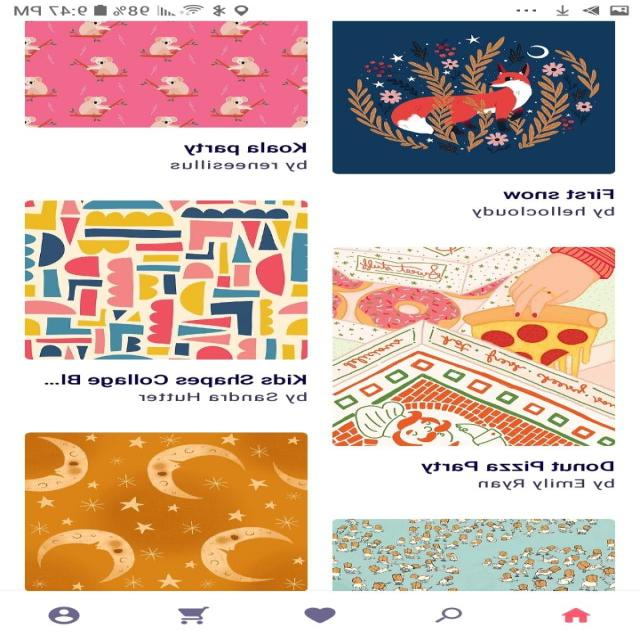Icon: (49, 606, 81, 624), (178, 606, 210, 624), (305, 606, 337, 623), (562, 607, 592, 622), (436, 607, 462, 622)
Image: (332, 246, 616, 446), (26, 200, 310, 360), (26, 432, 310, 590), (332, 21, 616, 174), (25, 20, 308, 128), (332, 518, 616, 590)
Text: (45, 373, 308, 387), (420, 460, 614, 474), (138, 391, 308, 403), (471, 206, 614, 219), (478, 477, 615, 490), (185, 142, 308, 156), (170, 160, 308, 172), (503, 188, 614, 200)
